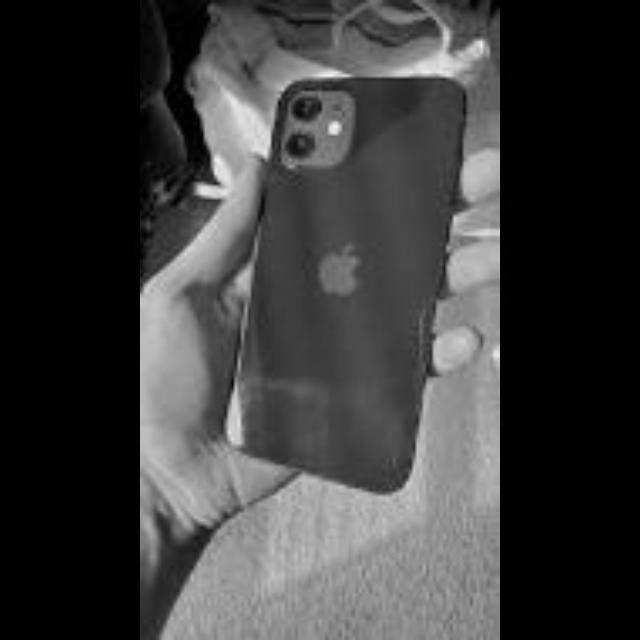fake: (236, 70, 472, 509)
